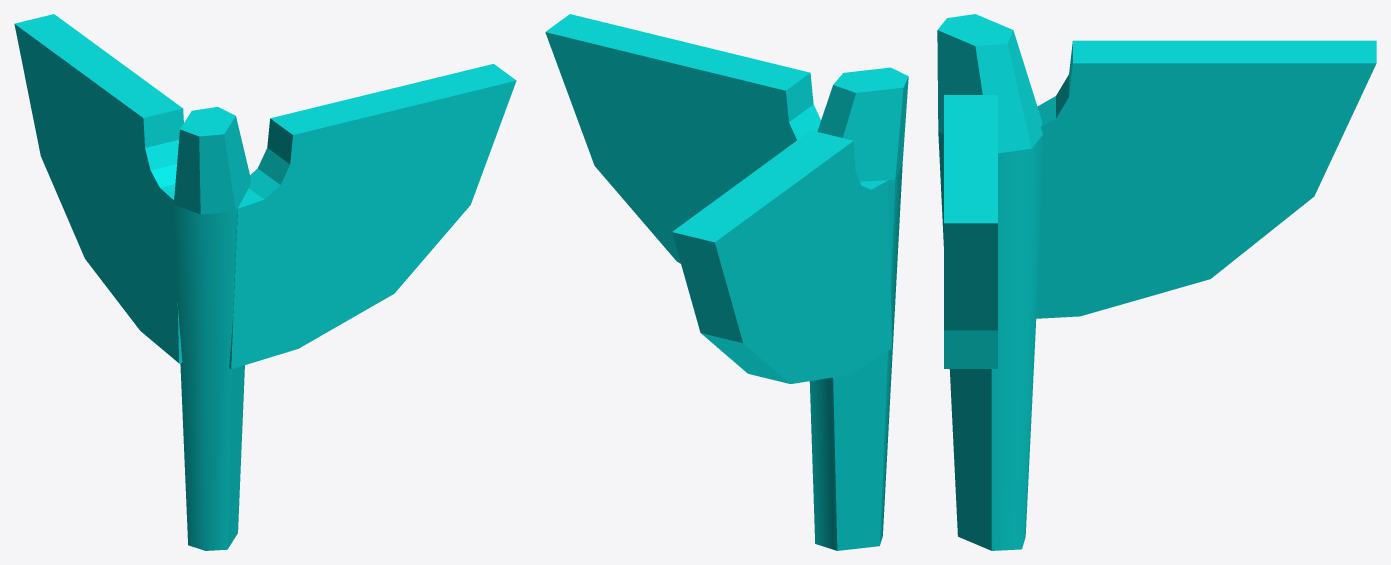
Rendered from SM_Bld_Statue_Corner_01_Collision.fbx.
The picture shows the model from 3 angles, left to right: view 1: azimuth 30°, elevation 25°; view 2: azimuth 150°, elevation 25°; view 3: azimuth 270°, elevation 25°; orthographic projection. The views are drawn at different scales.
Visible parts, largest first — view 1: SM_Bld_Statue_Corner_01_Collision; view 2: SM_Bld_Statue_Corner_01_Collision; view 3: SM_Bld_Statue_Corner_01_Collision.
Boxes of the visible parts, box(x1,y1,x2,y2) form: SM_Bld_Statue_Corner_01_Collision: box(14, 14, 516, 550); SM_Bld_Statue_Corner_01_Collision: box(545, 14, 908, 550); SM_Bld_Statue_Corner_01_Collision: box(937, 14, 1376, 550).
Size of the model in its own units: 493 by 619 by 493.
